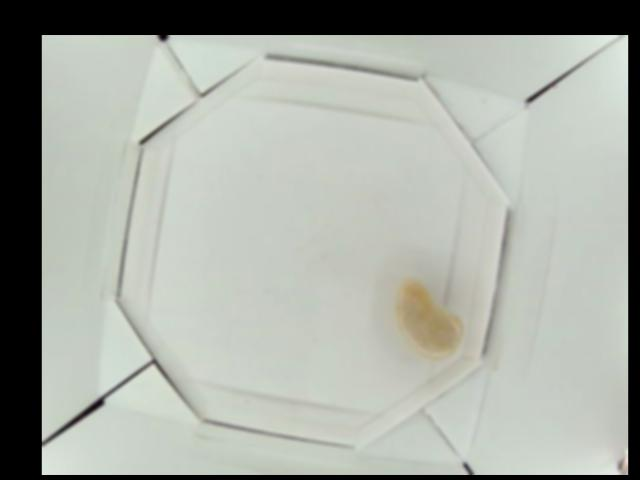Pebble: (399, 281, 463, 361)
